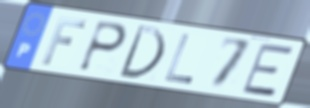7: (211, 35, 252, 92)
D: (116, 23, 167, 82)
E: (239, 43, 296, 99)
F: (39, 16, 90, 67)
L: (162, 32, 195, 86)
P: (76, 19, 130, 74)
